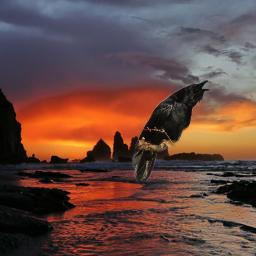Crow: (131, 78, 212, 181)
